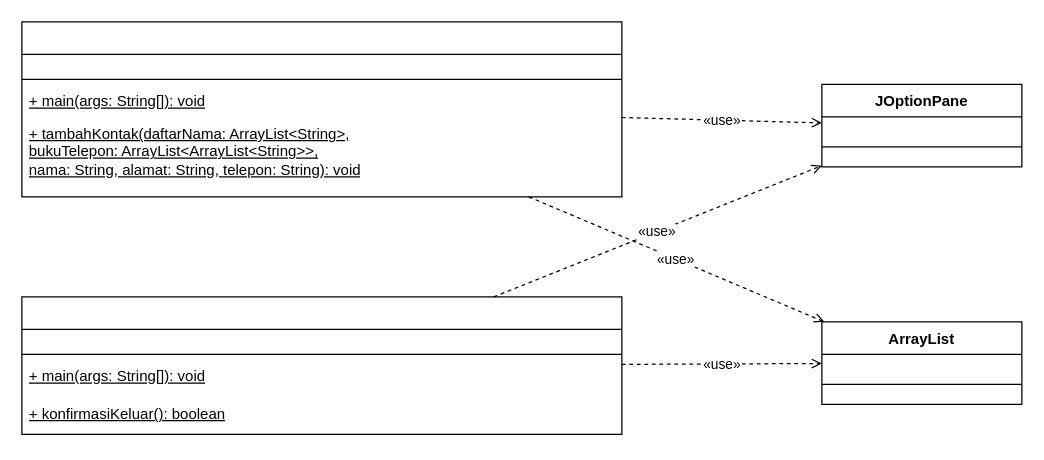
The diagram is 1044 pixels wide and 460 high, and some of its shapes have lost their labels. The box of each missing label's shape, as (x1, y1, x2, y2) in pixels:
AppBukuTelp: (21, 21, 622, 197)
AppLogistik: (21, 296, 622, 434)
